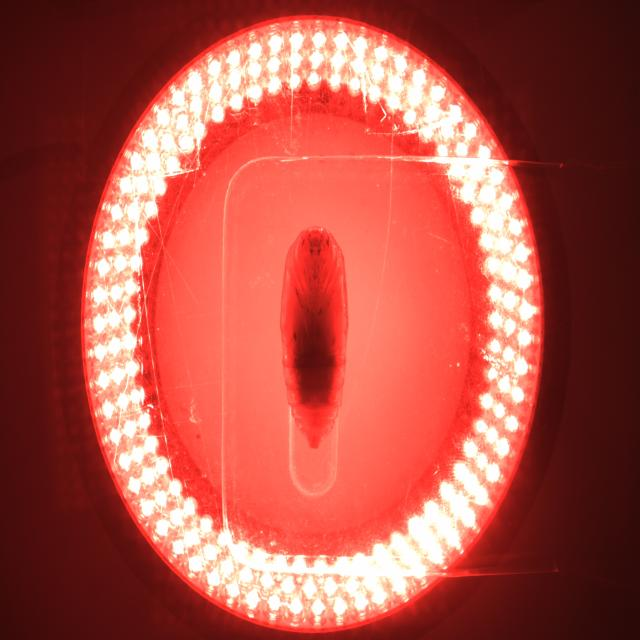female: (313, 416, 319, 428)
